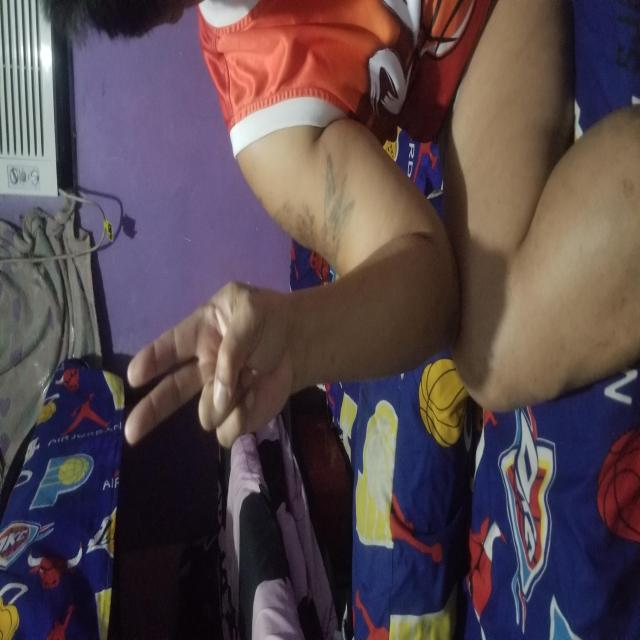U: (190, 121, 360, 293)
